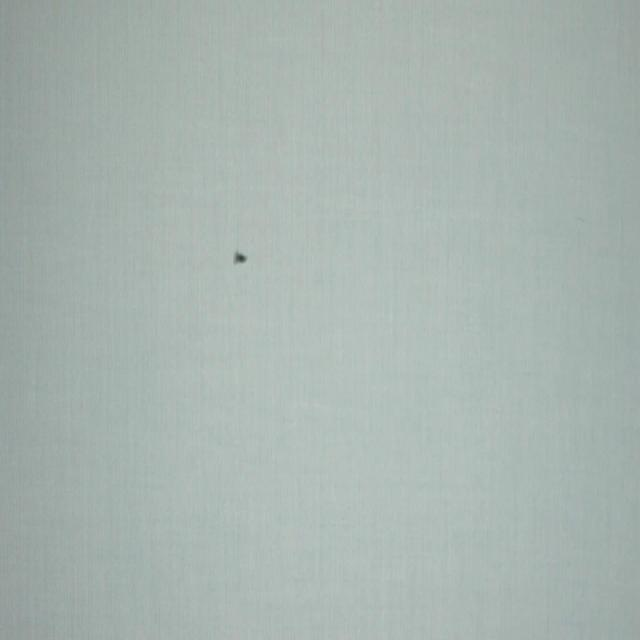dirty: (232, 252, 249, 266)
